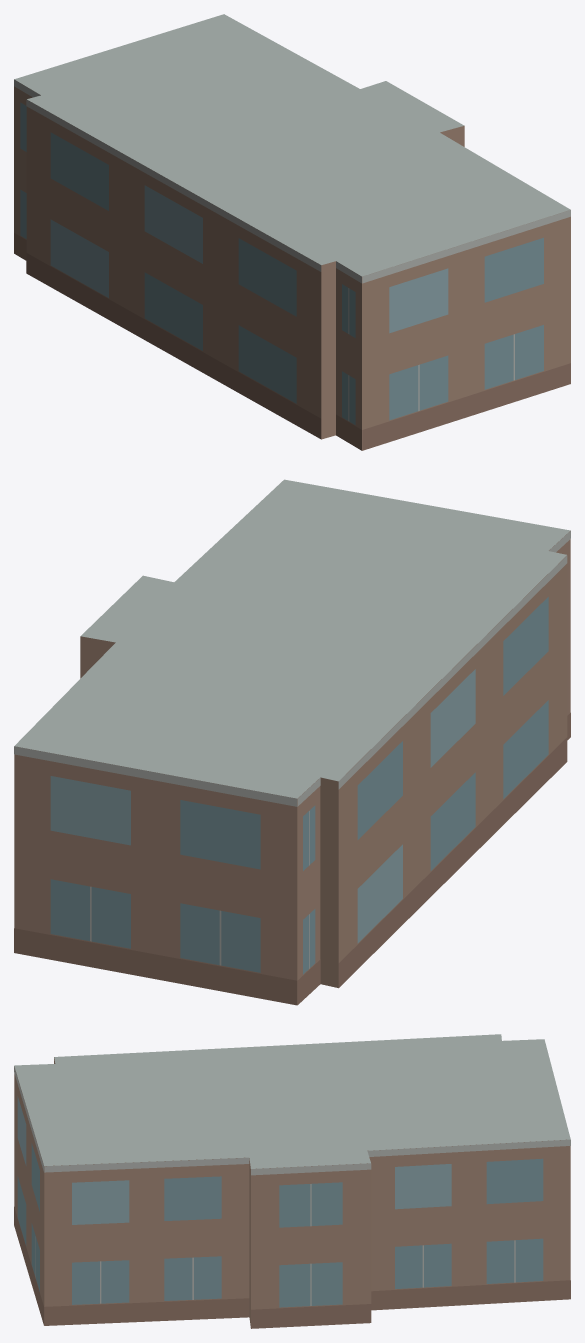
Rendered from survey-upis-32660834.glb.
3 renders of one model, top to bottom at view 1: azimuth 30°, elevation 25°; view 2: azimuth 150°, elevation 25°; view 3: azimuth 270°, elevation 25°, orthographic. The views are drawn at different scales.
Parts seen in each view (by area): view 1: survey-upis-32660834.tmp; view 2: survey-upis-32660834.tmp; view 3: survey-upis-32660834.tmp.
Part boxes in pixels (x1,y1,x2,y2): survey-upis-32660834.tmp: (14,14,570,450); survey-upis-32660834.tmp: (14,479,570,1005); survey-upis-32660834.tmp: (14,1034,570,1328).
Bounding box in the file's own units: 11.06 × 6.1 × 19.27.
